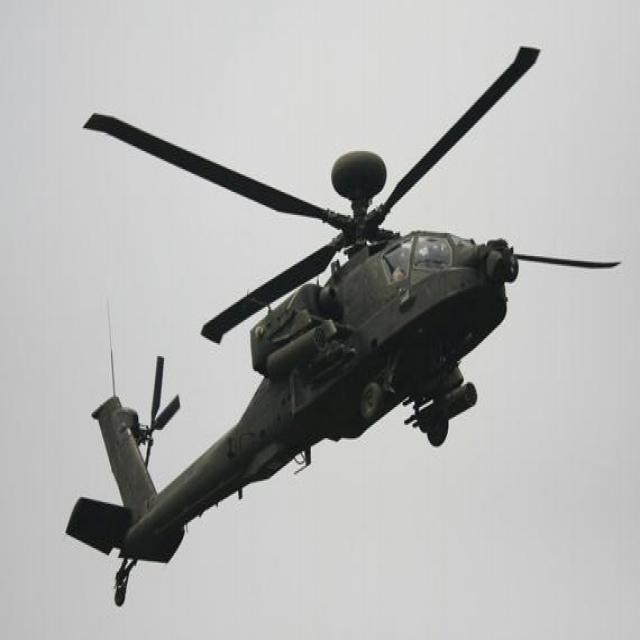MIL_HELO: (23, 39, 622, 556)
